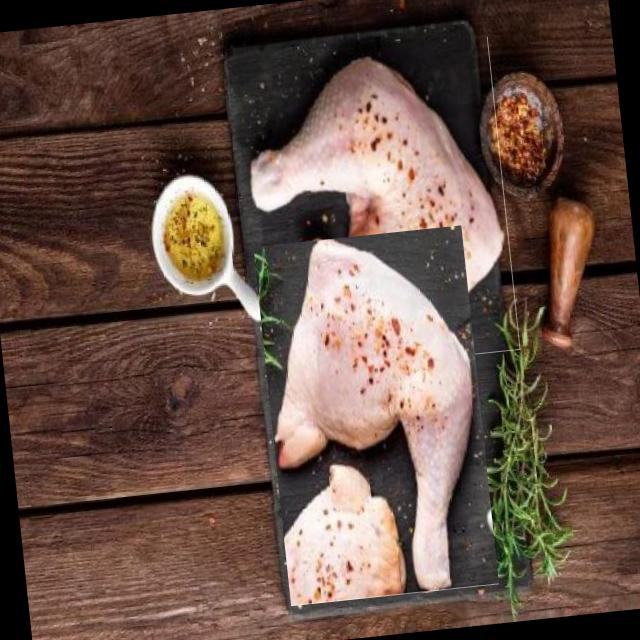chicken: (232, 36, 520, 376), (253, 224, 500, 606)
